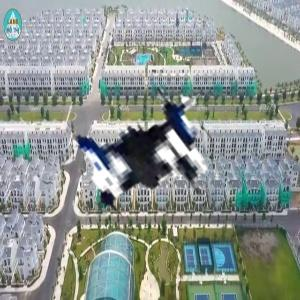drone: (11, 19, 230, 238)
